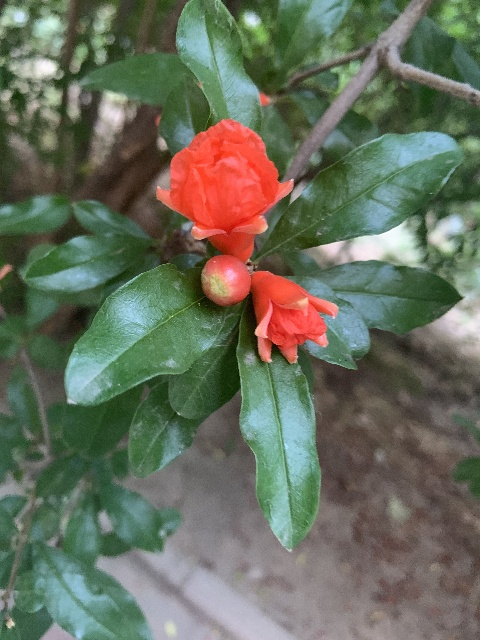bud: (200, 254, 250, 306)
flower: (155, 119, 293, 261), (250, 270, 338, 363)
